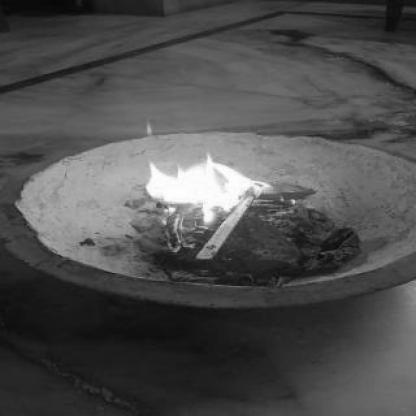fire: (140, 145, 268, 219)
